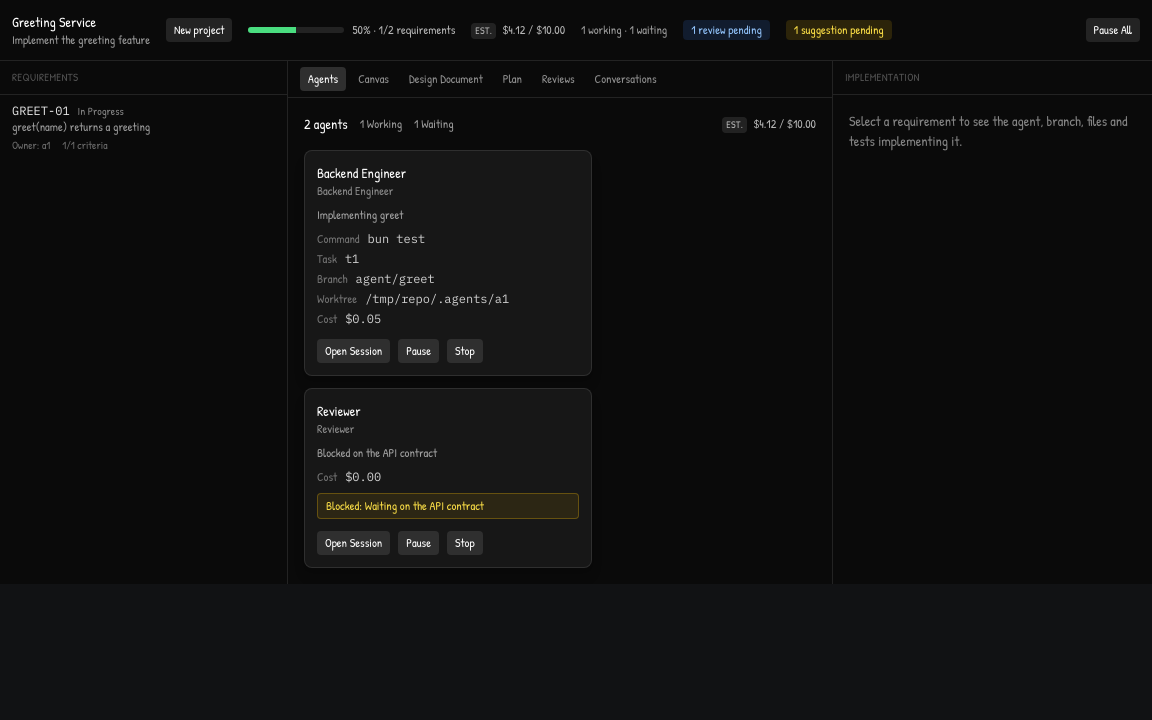
§22.17: every checklist row is reachable in the assembled app › the changes themselves are reachable, not just a file count
The width and height of the screenshot is (1152, 720).
Expected: the text with test id "project-name" reads "Greeting Service", [12, 12, 96, 31]
Click the button with test id "tab-reviews": (558, 79) [534, 67, 583, 91]
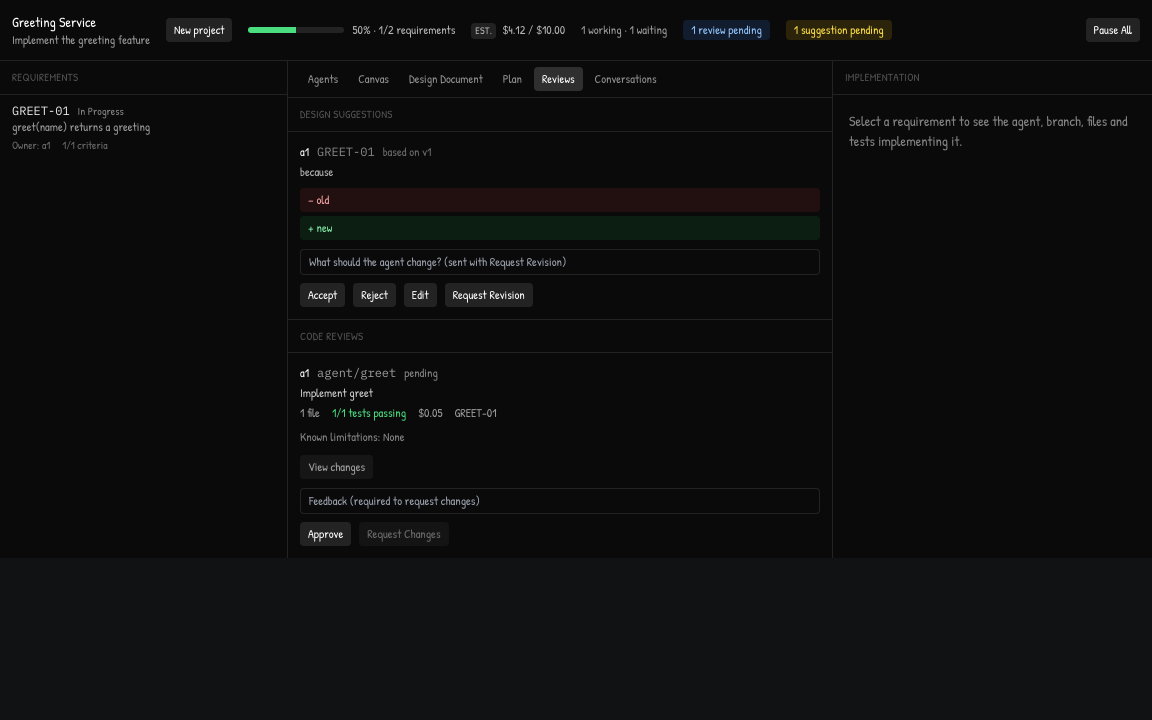
Now the button with test id "submission-diff-toggle-sub1" is shown
Click the button with test id "submission-diff-toggle-sub1": (337, 467) [300, 455, 373, 479]
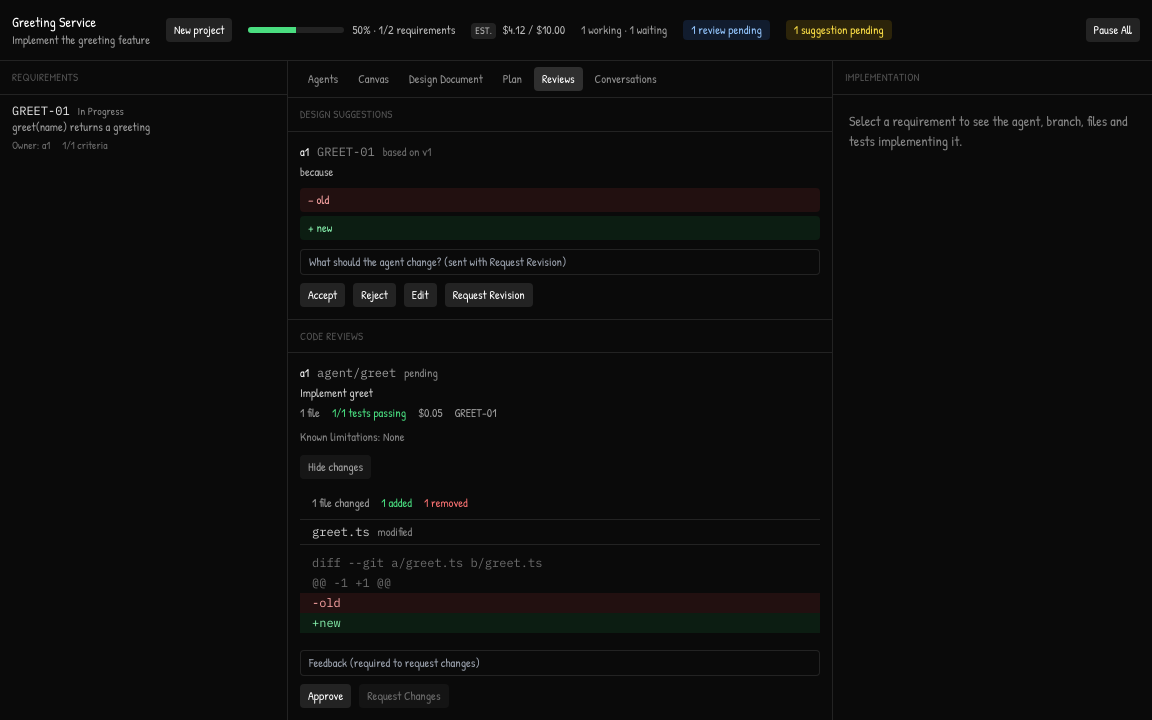
Now the element with test id "diff-body" is shown, box [300, 545, 820, 641]
Now the element with test id "diff-body" shows "+new", box [312, 615, 341, 630]
